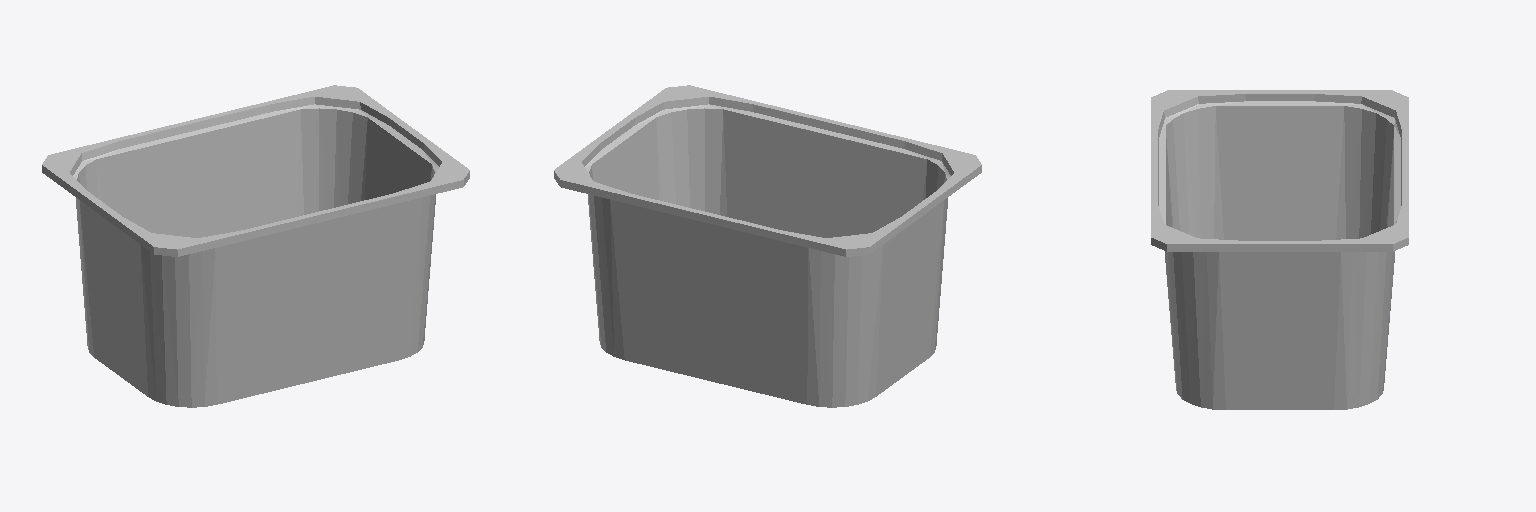
File: trofast_knob_meshes_trofast.obj
3 renders of one model, left to right at view 1: azimuth 30°, elevation 25°; view 2: azimuth 150°, elevation 25°; view 3: azimuth 270°, elevation 25°, orthographic.
Parts seen in each view (by area): view 1: Cube_Cube.001; view 2: Cube_Cube.001; view 3: Cube_Cube.001.
Boxes of the visible parts, box(x1,y1,x2,y2) form: Cube_Cube.001: box(42, 85, 469, 407); Cube_Cube.001: box(554, 85, 981, 407); Cube_Cube.001: box(1151, 90, 1408, 409).
Bounding box in the file's own units: 0.4236 × 0.227 × 0.3.